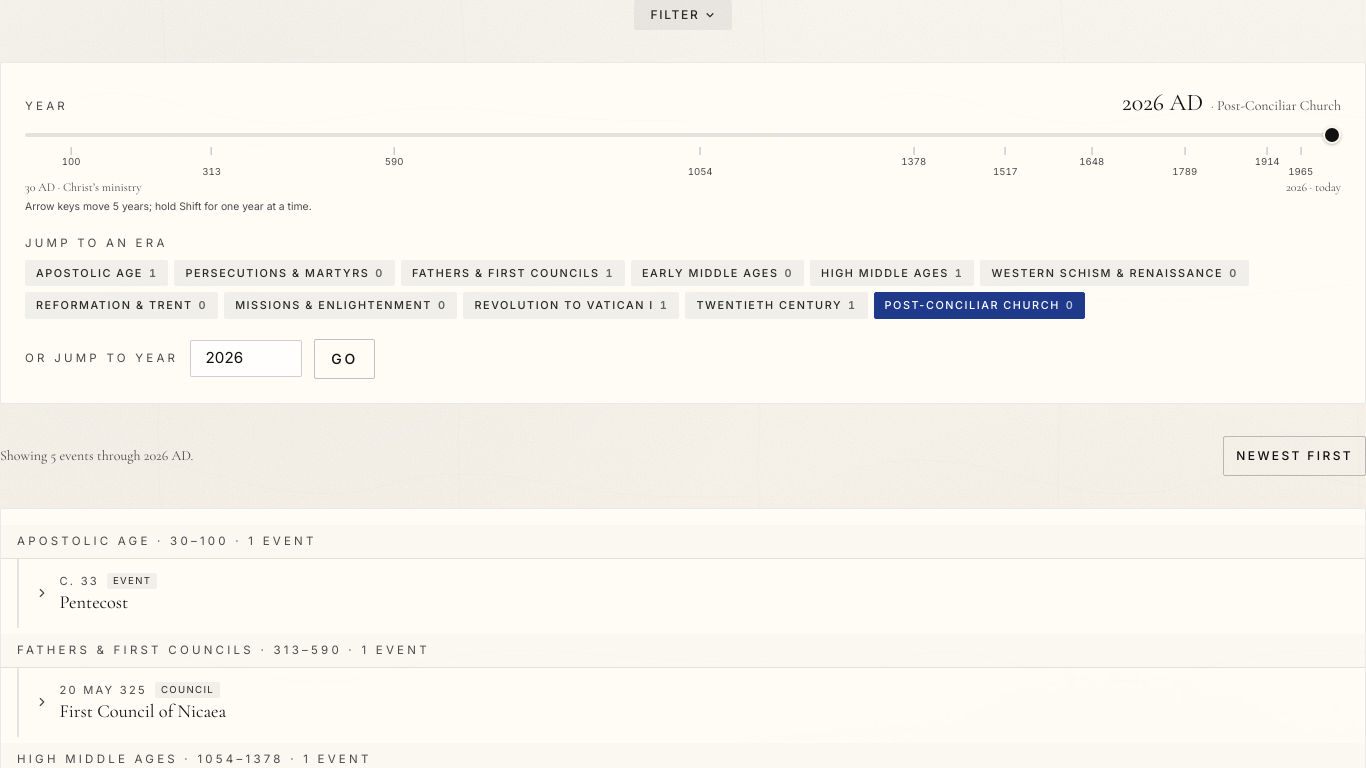
Test: HistoryTimelineClient › jumps to an era from the era buttons
Click the button "Fathers & First Councils 1" at (513, 273), box [401,260,625,286]
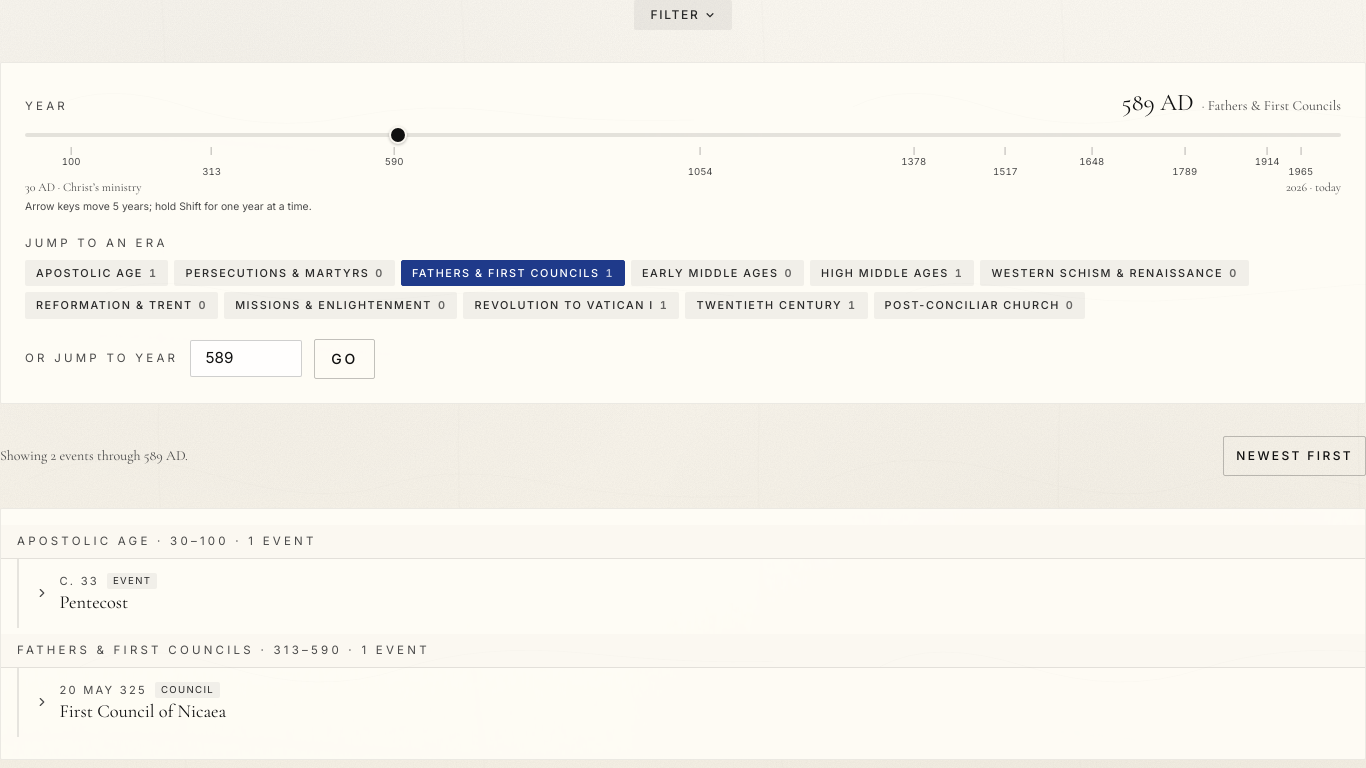
Expected: the number field labelled "Or jump to year" holds "589", [190,340,302,377]
